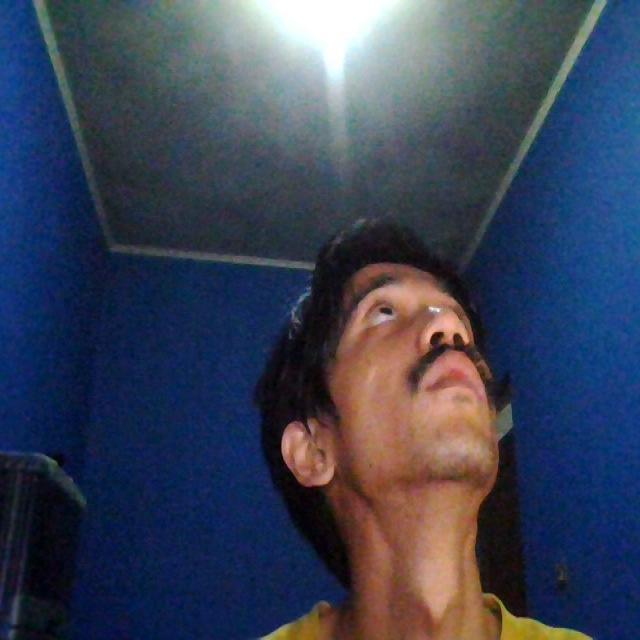Melihat keatas: (234, 238, 508, 550)
